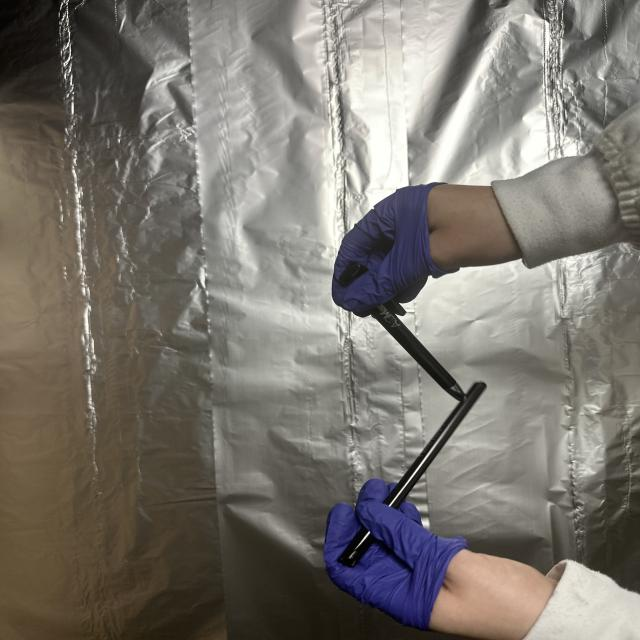glove_partial: (321, 466, 572, 640), (329, 178, 537, 316)
